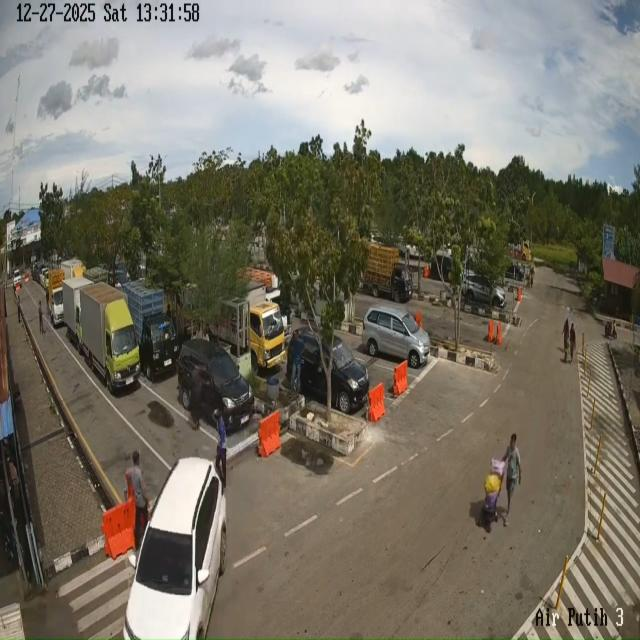Golongan IVA: (123, 457, 227, 640), (177, 338, 255, 432), (286, 328, 370, 414), (362, 305, 430, 369), (462, 271, 506, 308)
Golongan IVB: (362, 243, 413, 302), (47, 269, 65, 328)
Golongan VB: (80, 283, 140, 394), (62, 277, 92, 352)
